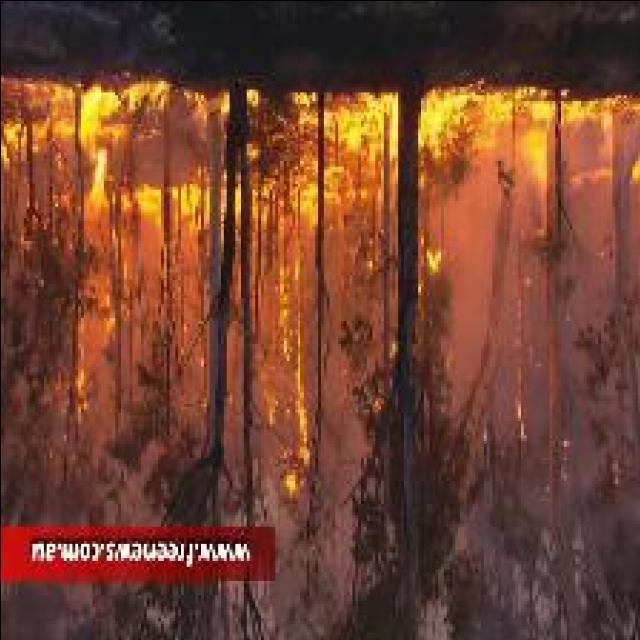Fire: (418, 77, 638, 192), (0, 81, 166, 210), (262, 183, 308, 503), (293, 90, 396, 170), (113, 188, 210, 235), (292, 178, 318, 232)
